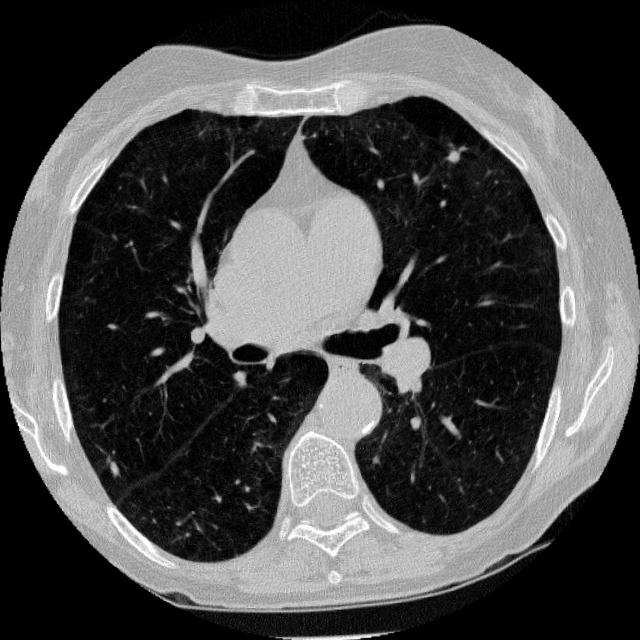nodule: (98, 453, 127, 482)
